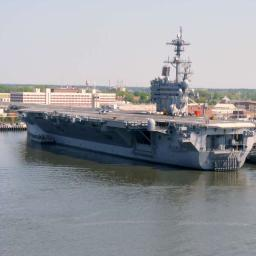Portanaves: (9, 19, 256, 172)
